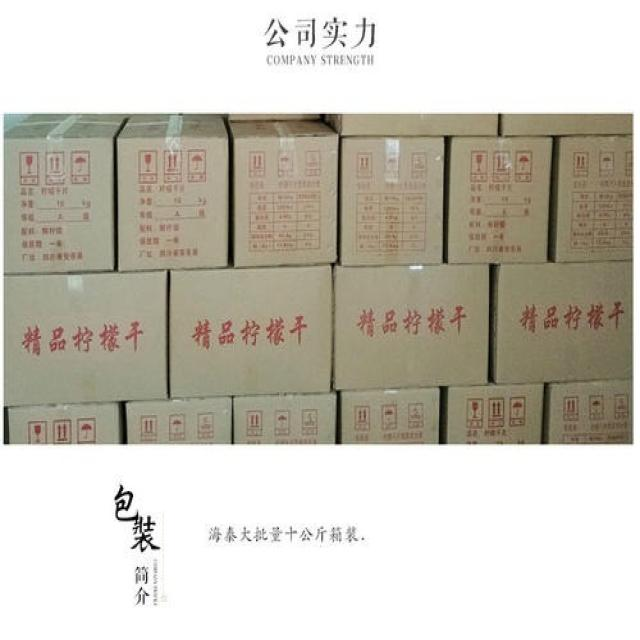box: (4, 269, 168, 406), (170, 265, 332, 400), (334, 263, 490, 392), (4, 114, 128, 274), (490, 260, 634, 385), (116, 114, 229, 271), (229, 119, 339, 268), (447, 137, 552, 265), (340, 137, 444, 265), (549, 135, 634, 263), (439, 383, 545, 444), (541, 379, 632, 442), (340, 388, 440, 444), (233, 394, 337, 444), (125, 397, 233, 444), (8, 401, 122, 445), (323, 114, 498, 137), (502, 114, 634, 135), (229, 114, 323, 120)
